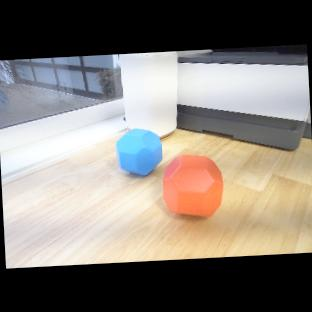V5_BLUE: (114, 127, 165, 176)
V5_RED: (161, 153, 224, 218)
